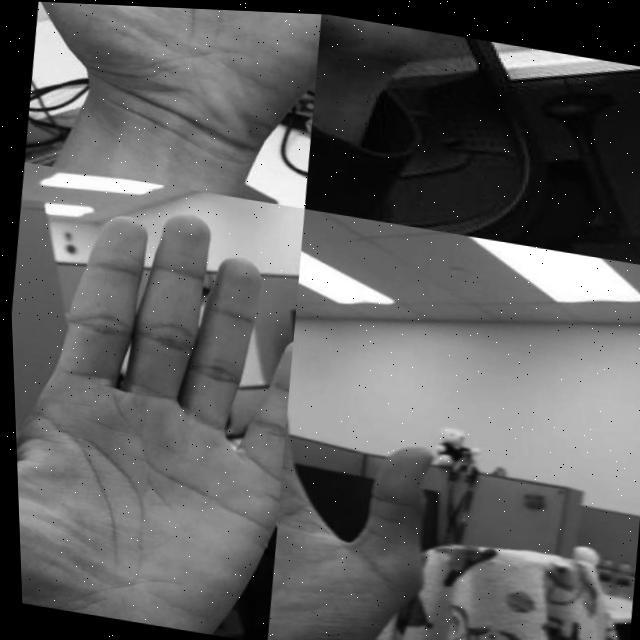no-gloves: (5, 185, 312, 640), (252, 326, 500, 640), (17, 1, 326, 206), (299, 11, 480, 204)
